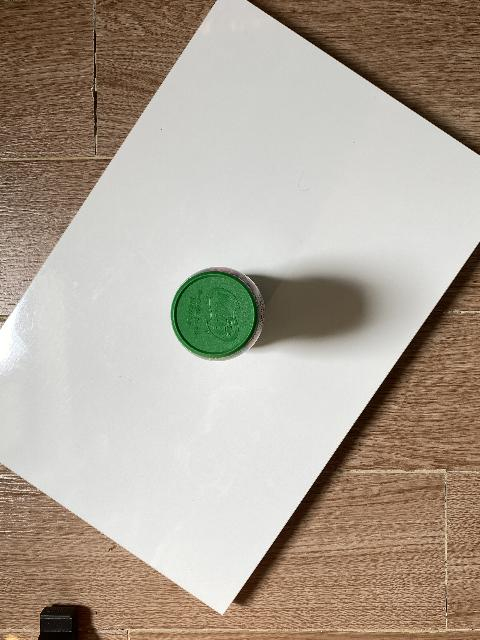milo: (170, 267, 265, 362)
